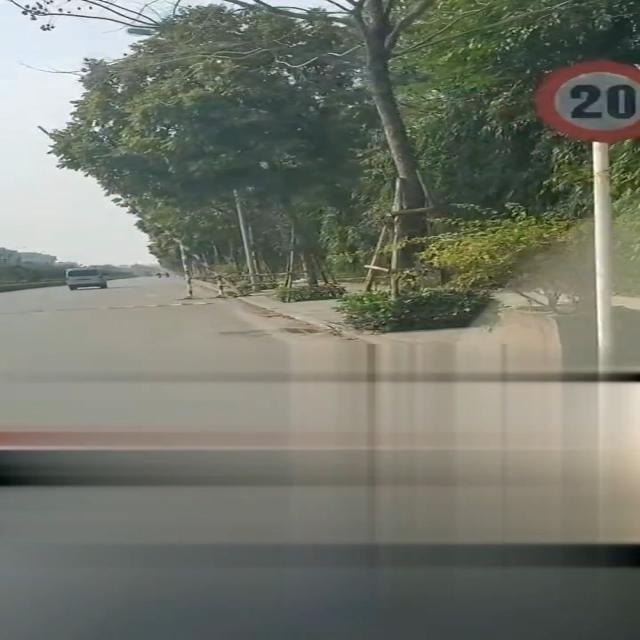127-toc-do-toi-da-20: (534, 59, 640, 142)
